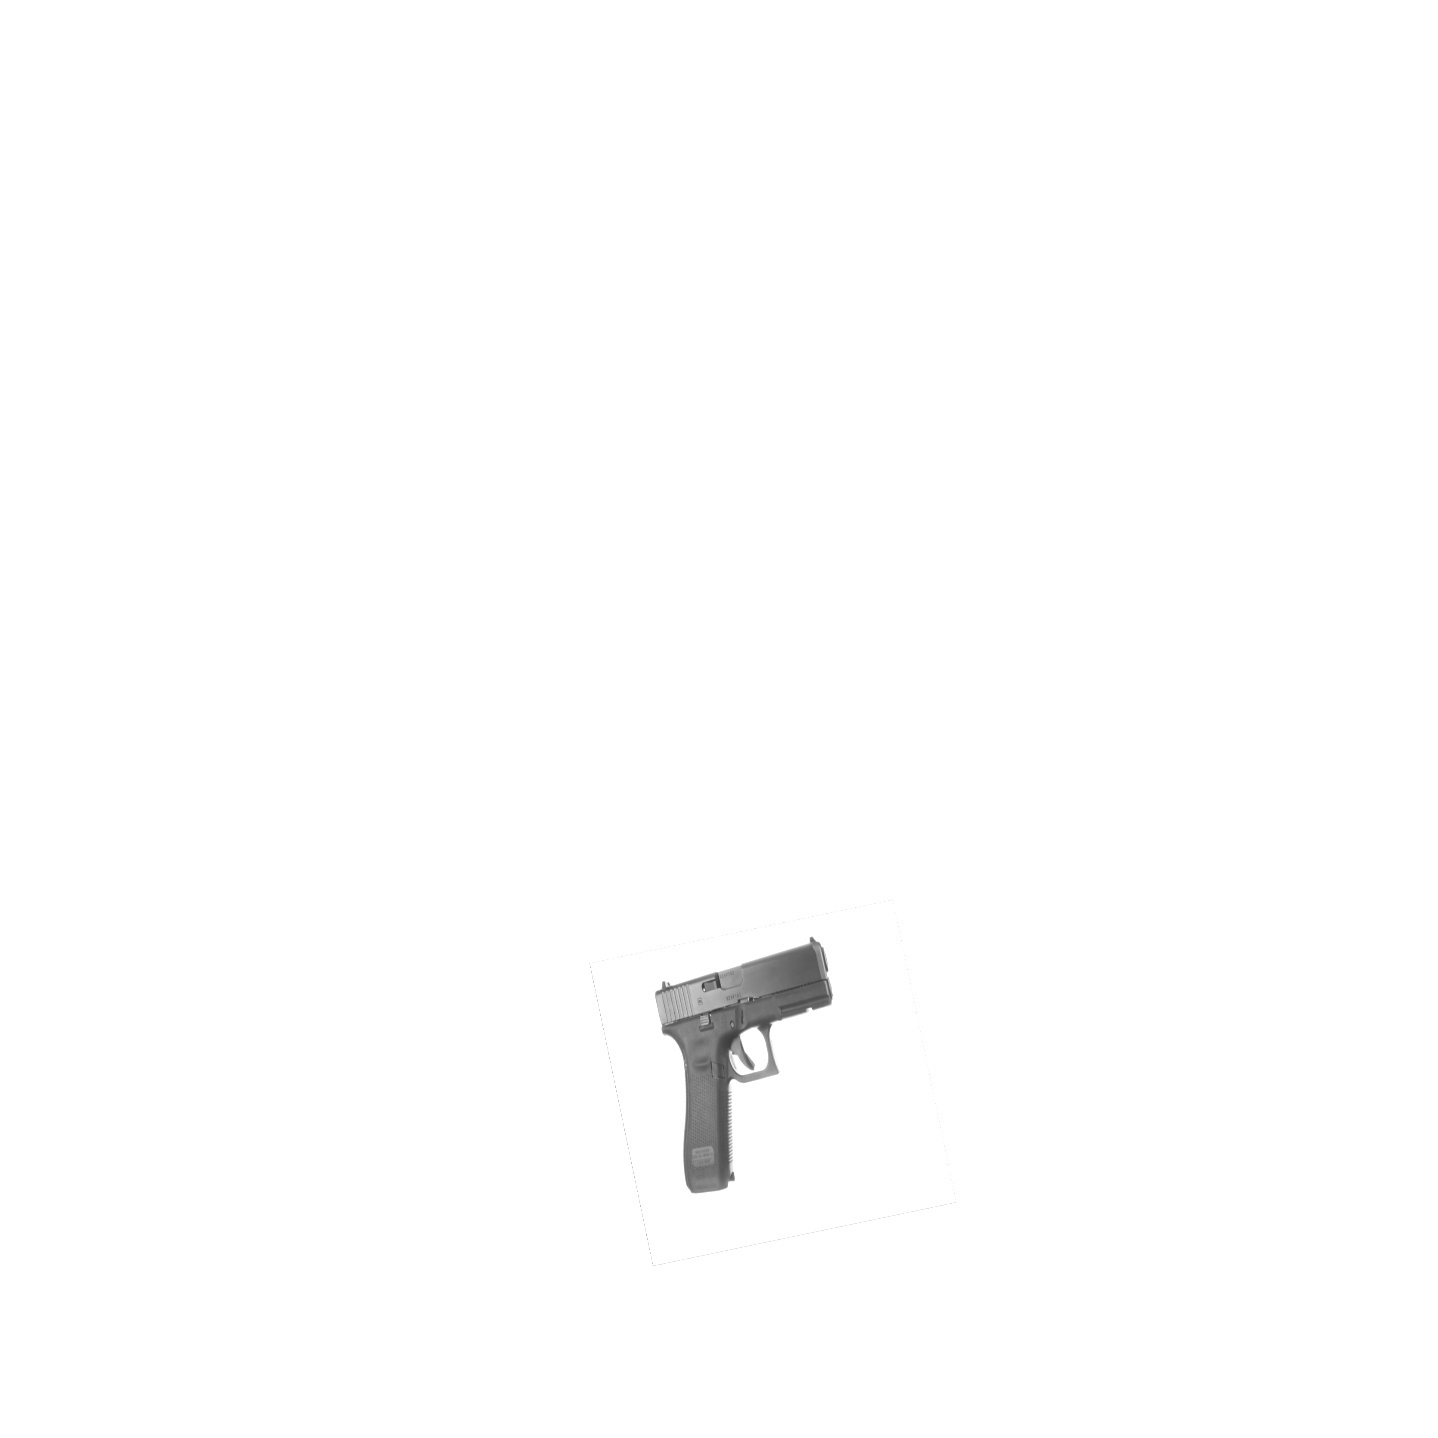gun: (653, 934, 836, 1200)
